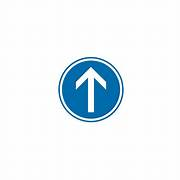forward: (58, 56, 124, 121)
